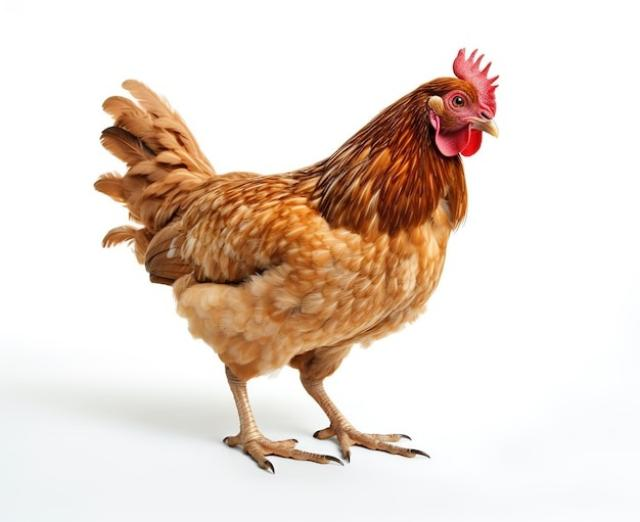Chicken: (97, 47, 502, 470)
